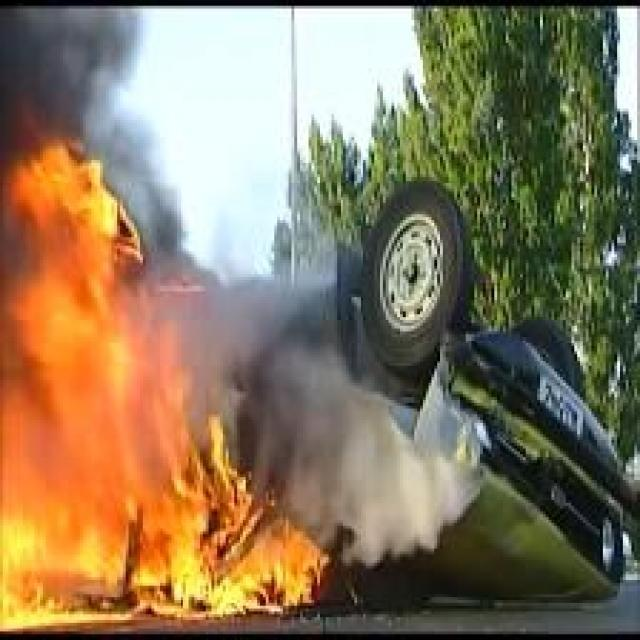Fire: (0, 135, 331, 627)
